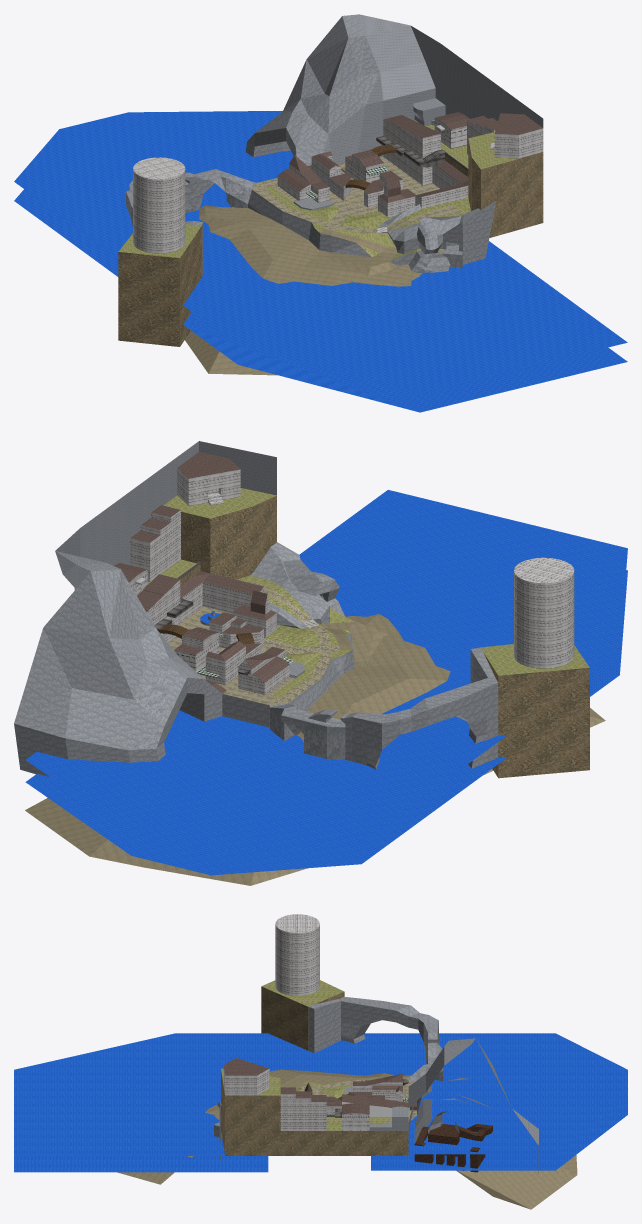
Rendered from beach2.glb.
The picture shows the model from 3 angles, top to bottom: view 1: azimuth 30°, elevation 25°; view 2: azimuth 150°, elevation 25°; view 3: azimuth 270°, elevation 25°; orthographic projection. The views are drawn at different scales.
Parts seen in each view (by area): view 1: Anvil.Plane.010-col, Anvil.Plane.016-col, Anvil.Plane.011-col, Anvil.Box.036-col, Anvil.Box.008-col, Anvil.Box.031-col, Anvil.Cylinder-col, Anvil.Plane.017-col, Anvil.Plane-col, Anvil.Box.035-col, Anvil.Box.025-col, Anvil.Box.032-col (+15 smaller); view 2: Anvil.Plane.010-col, Anvil.Plane.016-col, Anvil.Plane.011-col, Anvil.Box.008-col, Anvil.Box.036-col, Anvil.Plane.017-col, Anvil.Box.007-col, Anvil.Box.031-col, Anvil.Cylinder-col, Anvil.Plane-col, Anvil.Box.032-col, Anvil.Plane.008-col (+17 smaller); view 3: Anvil.Plane.010-col, Anvil.Plane.011-col, Anvil.Box.036-col, Anvil.Box.007-col, Anvil.Box.031-col, Anvil.Box.024-col, Anvil.Cylinder-col, Anvil.Box.008-col, Anvil.Plane.016-col, Anvil.Box.032-col, Anvil.Box.005-col, Anvil.Box.027-col (+8 smaller).
Part boxes in pixels (x1,y1,x2,y2): Anvil.Plane.010-col: (14,111,627,393); Anvil.Plane.016-col: (246,14,435,165); Anvil.Plane.011-col: (14,189,627,412); Anvil.Box.036-col: (185,205,422,375); Anvil.Box.008-col: (118,224,201,346); Anvil.Box.031-col: (468,132,543,237); Anvil.Cylinder-col: (133,157,185,253); Anvil.Plane.017-col: (411,26,543,127); Anvil.Plane-col: (377,197,496,264); Anvil.Box.035-col: (316,229,462,276); Anvil.Box.025-col: (383,115,440,185); Anvil.Box.032-col: (494,113,543,158); Anvil.Plane.010-col: (26,490,627,853); Anvil.Plane.016-col: (14,551,269,776); Anvil.Plane.011-col: (25,570,627,875); Anvil.Box.008-col: (481,644,589,778); Anvil.Box.036-col: (25,614,605,885); Anvil.Plane.017-col: (55,441,276,590); Anvil.Box.007-col: (340,647,498,769); Anvil.Box.031-col: (163,488,276,579); Anvil.Cylinder-col: (514,557,574,668); Anvil.Plane-col: (236,542,329,628); Anvil.Box.032-col: (177,452,240,505); Anvil.Plane.008-col: (270,703,345,759); Anvil.Plane.010-col: (14,1033,627,1155); Anvil.Plane.011-col: (14,1099,627,1172); Anvil.Box.036-col: (117,1069,577,1209); Anvil.Box.007-col: (308,996,440,1062); Anvil.Box.031-col: (221,1068,280,1155); Anvil.Box.024-col: (280,1117,408,1155); Anvil.Cylinder-col: (275,914,319,995); Anvil.Box.008-col: (261,980,344,1050); Anvil.Plane.016-col: (408,1038,538,1173); Anvil.Box.032-col: (223,1058,269,1095); Anvil.Box.005-col: (428,1124,492,1144); Anvil.Box.027-col: (342,1103,369,1130).
Bounding box in the file's own units: 270 × 128 × 442.
13 materials, 12 textured.
